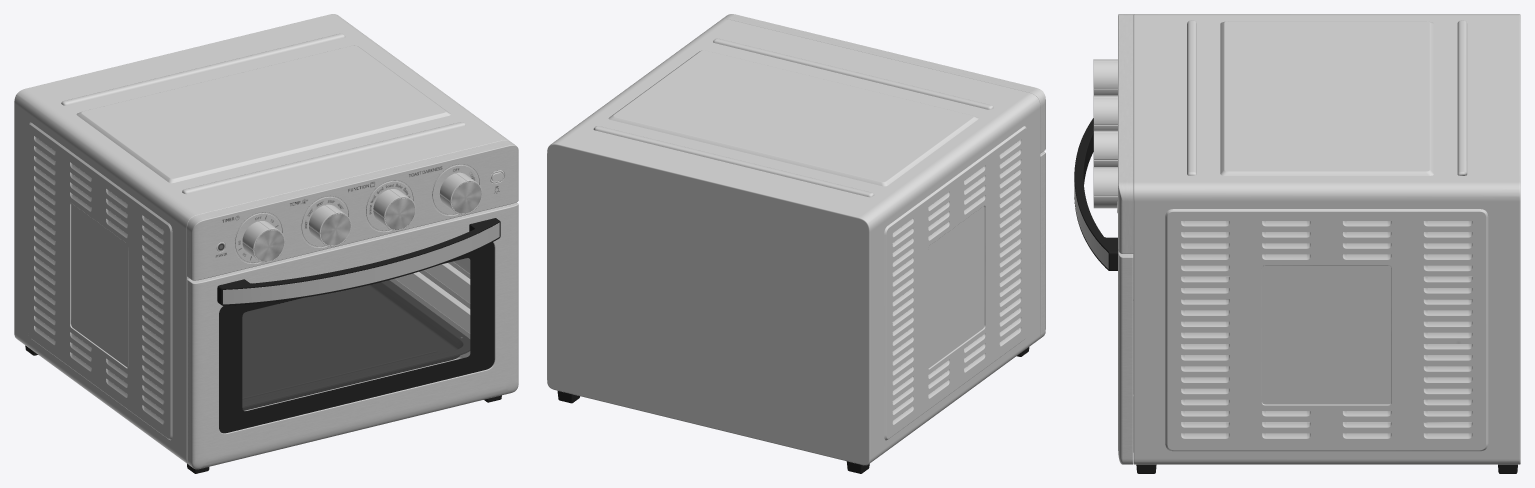
File: countertopOven_B0CGJ13QSD_airFryerOven_stainlessSteel.glb
3 renders of one model, left to right at view 1: azimuth 30°, elevation 25°; view 2: azimuth 150°, elevation 25°; view 3: azimuth 270°, elevation 25°, orthographic. The views are drawn at different scales.
Parts seen in each view (by area): view 1: ASSET; view 2: ASSET; view 3: ASSET.
Part boxes in pixels (x1,y1,x2,y2): ASSET: (14,14,518,473); ASSET: (547,14,1045,473); ASSET: (1074,14,1520,473).
Size of the model in its own units: 0.4329 by 0.33 by 0.4534.
2 materials, 2 textured.
